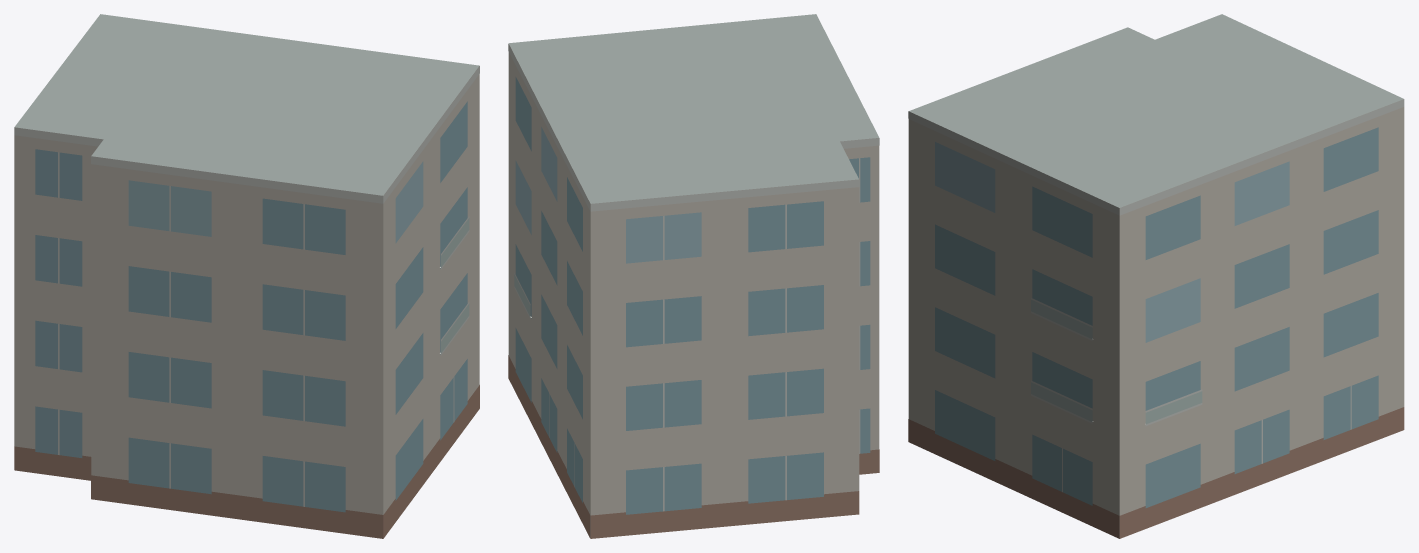
File: survey-upis-32747047.glb
3 renders of one model, left to right at view 1: azimuth 30°, elevation 25°; view 2: azimuth 150°, elevation 25°; view 3: azimuth 270°, elevation 25°, orthographic. The views are drawn at different scales.
Visible parts, largest first — view 1: survey-upis-32747047.tmp; view 2: survey-upis-32747047.tmp; view 3: survey-upis-32747047.tmp.
Boxes of the visible parts, x1,y1,x2,y2 form: survey-upis-32747047.tmp: (14,14,479,538); survey-upis-32747047.tmp: (508,14,879,538); survey-upis-32747047.tmp: (908,14,1404,538).
Bounding box in the file's own units: 13.28 × 10.55 × 14.34.
